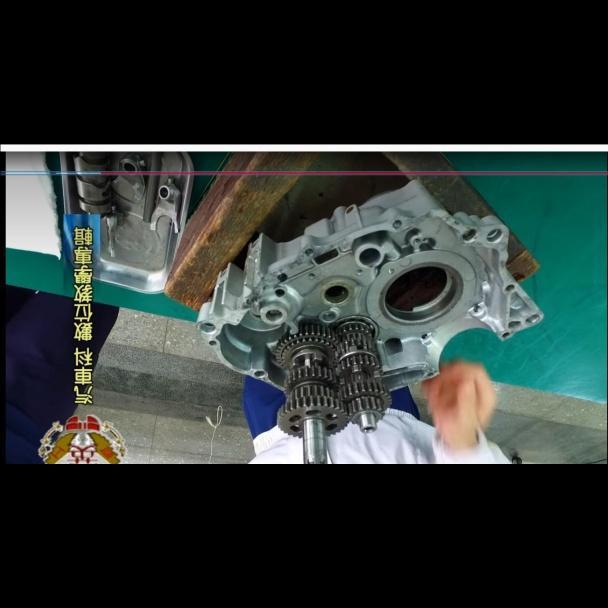hole: (460, 226, 475, 242), (303, 245, 313, 257), (410, 235, 421, 244), (385, 267, 395, 275), (353, 268, 362, 276), (306, 272, 315, 279)
